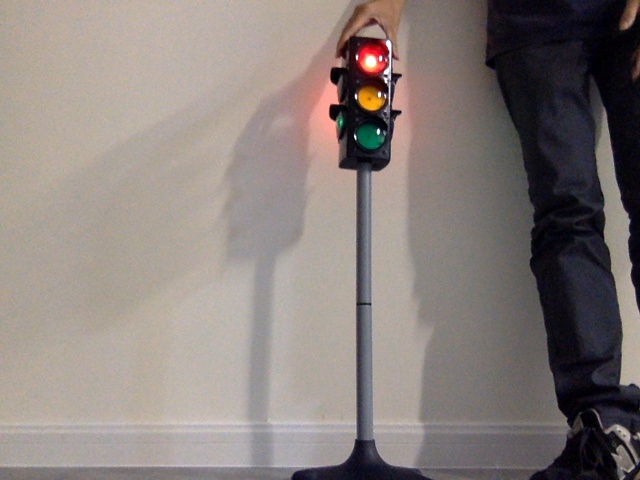red: (347, 42, 388, 151)
